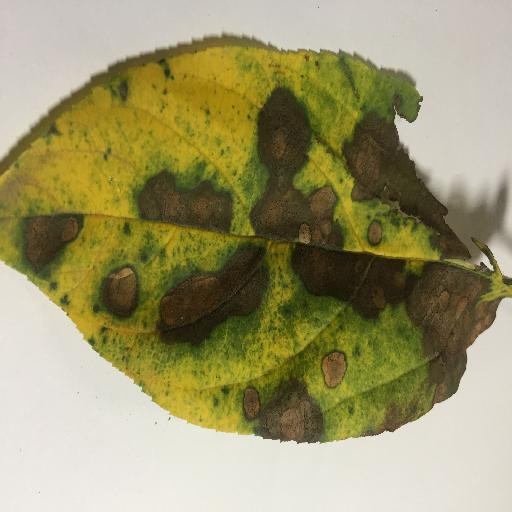Brown_Spot: (348, 124, 463, 254), (167, 243, 263, 341), (419, 271, 483, 399), (292, 245, 406, 312), (258, 89, 309, 236), (141, 168, 242, 225), (16, 209, 83, 277), (268, 392, 324, 439), (308, 188, 342, 247), (106, 274, 142, 317), (362, 216, 383, 249), (324, 353, 345, 385), (247, 391, 258, 412)
